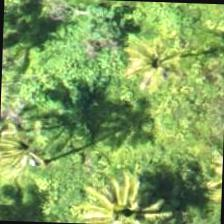Kelapa_Sawit: (108, 9, 202, 102), (81, 159, 175, 223)
